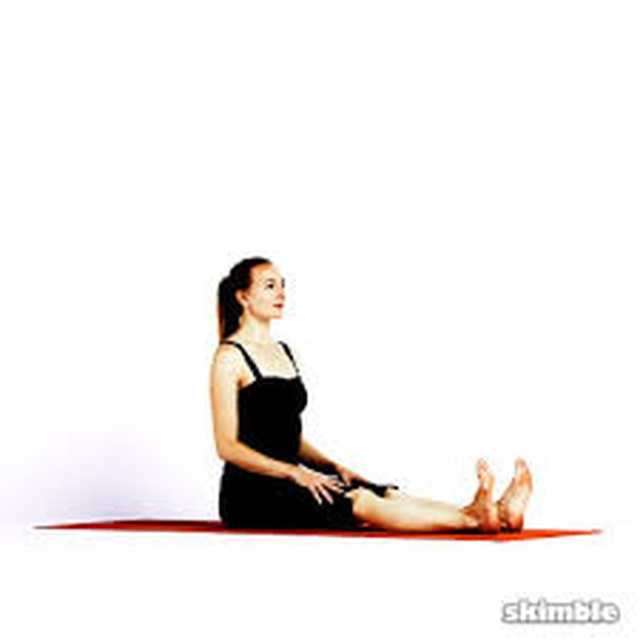Staff_Pose: (209, 254, 531, 534)
